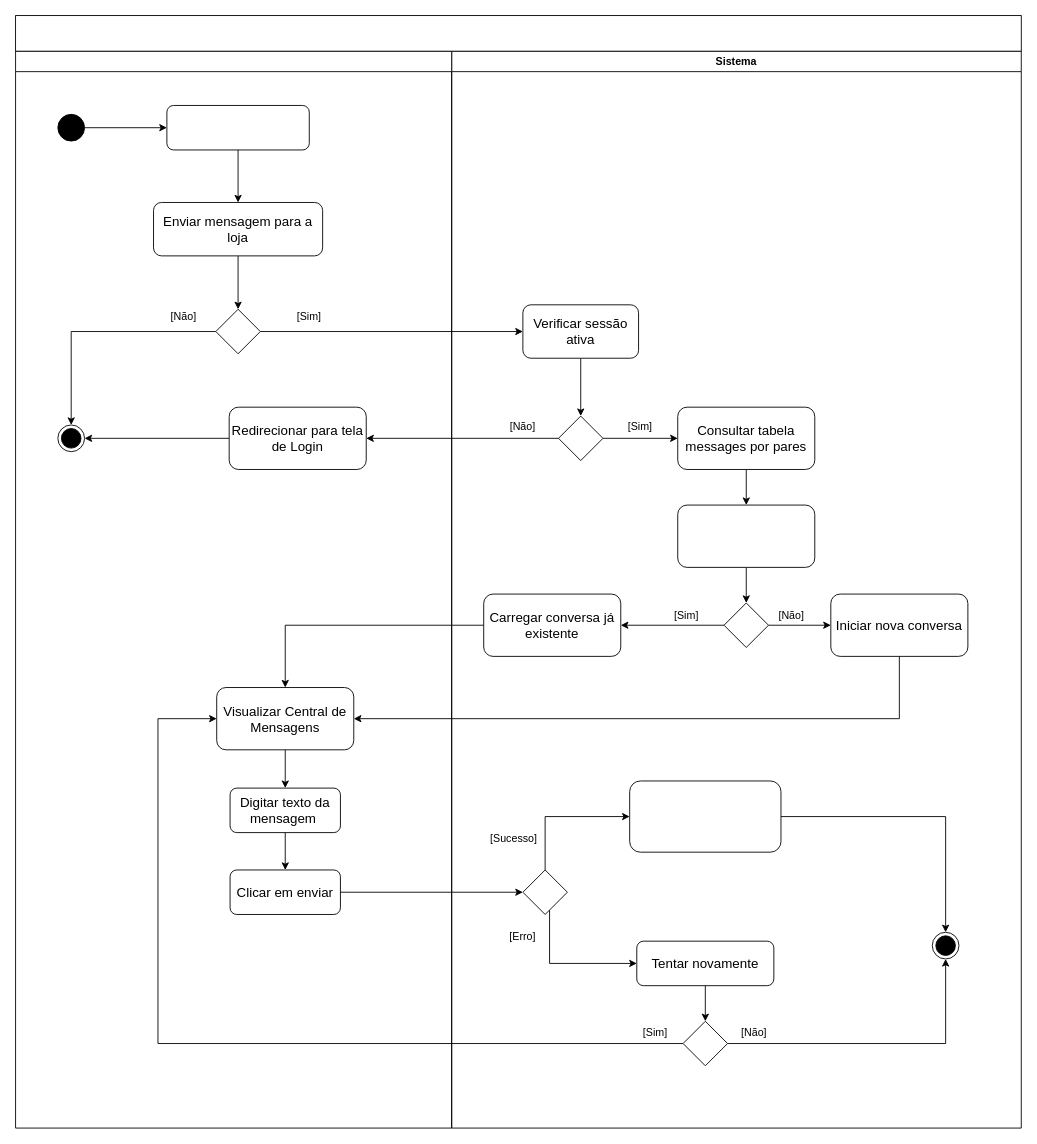
This 1037x1144 diagram has some shape labels left out. Each missing label, with the box of its shape:
Acessar Loja Pública: (166, 105, 309, 150)
Cliente: (15, 50, 452, 1128)
Diagrama de Atividade: Enviar Mensagem para a Loja: (15, 15, 1021, 51)
Mensagem enviada ao artesão: (629, 780, 781, 852)
Verificar se a conversa já existe: (677, 504, 815, 567)
